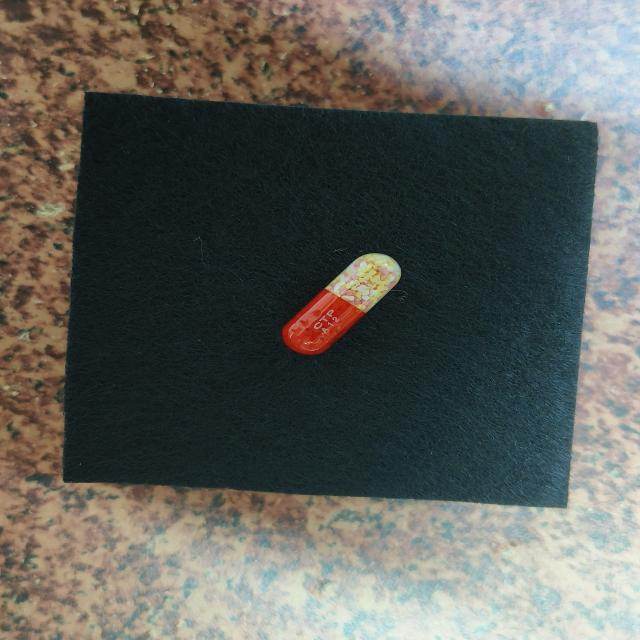Intact Capsule: (281, 253, 401, 355)
